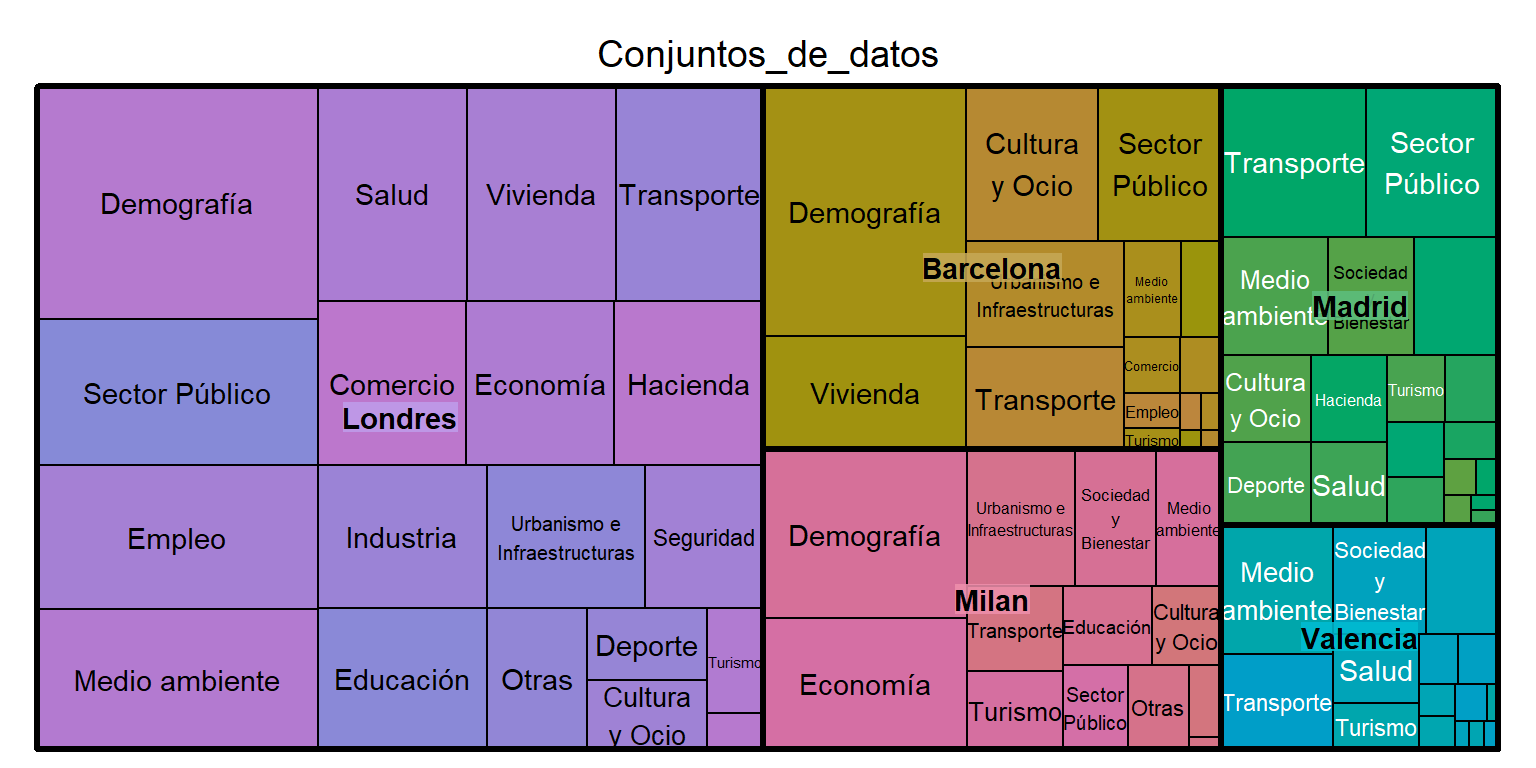

This screenshot's page, from the dashboard's own definition file:
{"tool":"tableau","page":{"name":"Dashboard 1","canvas":[1280,768],"ordinal":0},"visuals":[{"type":"worksheet","box":[0,0,1280,768]},{"type":"worksheet","param":"vert","box":[8,8,1264,752]},{"type":"worksheet","box":[8,8,1264,50]},{"type":"worksheet","param":"horz","box":[8,58,1264,702]},{"type":"worksheet","box":[8,58,1155,702]},{"type":"worksheet","title":"Sheet 3","mark":"Automatic","box":[8,58,486.5,261]},{"type":"worksheet","param":"horz","box":[494.5,58,668.5,702]},{"type":"worksheet","param":"vert","box":[494.5,58,668.5,702]},{"type":"worksheet","title":"Sheet 4","mark":"Automatic","rows":["Calculation_1529535033223892992"],"cols":["Date"],"box":[494.5,58,668.5,342.5]},{"type":"worksheet","param":"vert","box":[1163,58,109,702]},{"type":"worksheet","param":"[Parameters].[Parameter 1]","box":[1163,58,109,56]},{"type":"worksheet","title":"Sheet 1","mark":"Pie","box":[8,319,486.5,441]},{"type":"worksheet","title":"Sheet 2","mark":"Automatic","rows":["Calculation_712976126128058368"],"cols":["Tickers"],"box":[494.5,400.5,668.5,359.5]}]}

Visuals, with their boxes in screenshot pixels (x1, y1, x2, y2):
worksheet: rect(288, 24, 1506, 755)
worksheet: rect(296, 32, 1498, 747)
worksheet: rect(296, 32, 1498, 79)
worksheet: rect(296, 79, 1498, 747)
worksheet: rect(296, 79, 1394, 747)
"Sheet 3" worksheet: rect(296, 79, 758, 327)
worksheet: rect(758, 79, 1394, 747)
worksheet: rect(758, 79, 1394, 747)
"Sheet 4" worksheet: rect(758, 79, 1394, 405)
worksheet: rect(1394, 79, 1498, 747)
worksheet: rect(1394, 79, 1498, 132)
"Sheet 1" worksheet (Pie marks): rect(296, 327, 758, 747)
"Sheet 2" worksheet: rect(758, 405, 1394, 747)
